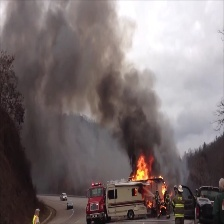fire: (130, 154, 169, 210)
